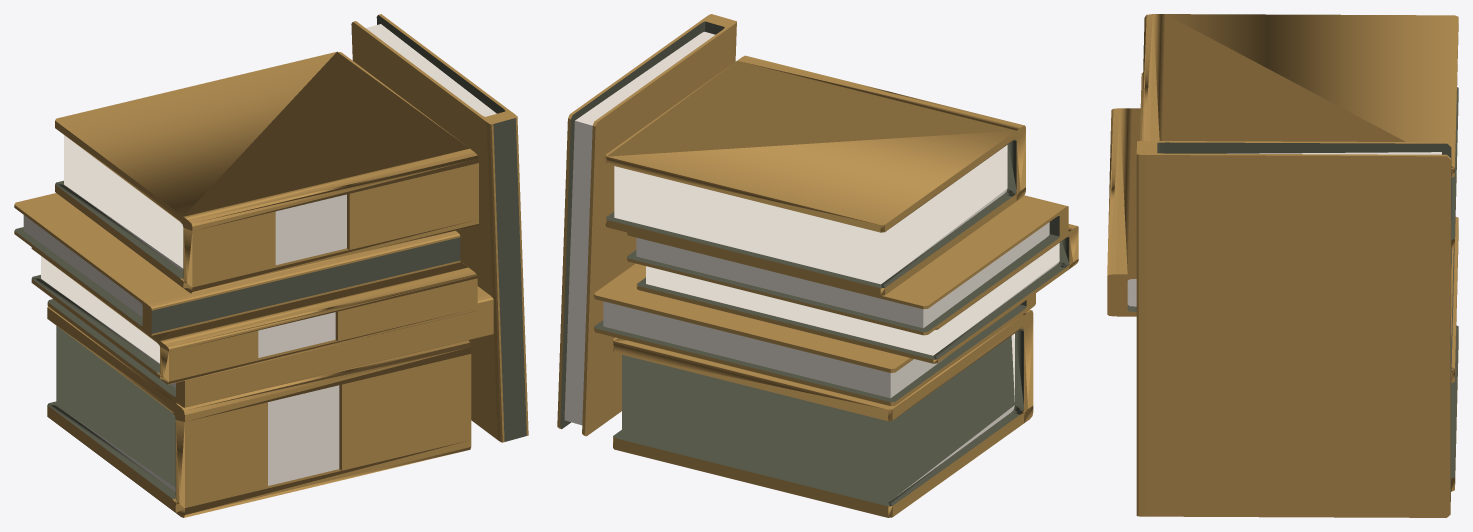
Rendered from Books short stack.fbx.
The picture shows the model from 3 angles, left to right: view 1: azimuth 30°, elevation 25°; view 2: azimuth 150°, elevation 25°; view 3: azimuth 270°, elevation 25°; orthographic projection. The views are drawn at different scales.
Parts seen in each view (by area): view 1: BOOK_LABEL_3, BOOK_LABEL, Box002, BOOK_LABEL_8, Box002_40, Box002_41; view 2: BOOK_LABEL_3, BOOK_LABEL, Box002, Box002_41, Box002_40, BOOK_LABEL_8; view 3: Box002, BOOK_LABEL_3, BOOK_LABEL_8, BOOK_LABEL.
Part boxes in pixels (x1,y1,x2,y2): BOOK_LABEL_3: (55,51,478,293); BOOK_LABEL: (47,306,471,517); Box002: (351,14,528,442); BOOK_LABEL_8: (31,247,477,384); Box002_40: (14,193,460,335); Box002_41: (47,286,493,407); BOOK_LABEL_3: (605,55,1025,295); BOOK_LABEL: (613,310,1033,517); Box002: (557,14,736,436); Box002_41: (594,263,1035,406); Box002_40: (627,195,1068,335); BOOK_LABEL_8: (636,224,1078,363); Box002: (1136,141,1451,517); BOOK_LABEL_3: (1141,14,1458,248); BOOK_LABEL_8: (1107,108,1140,316); BOOK_LABEL: (1451,217,1458,491).
Size of the model in its own units: 247 by 202 by 179.
